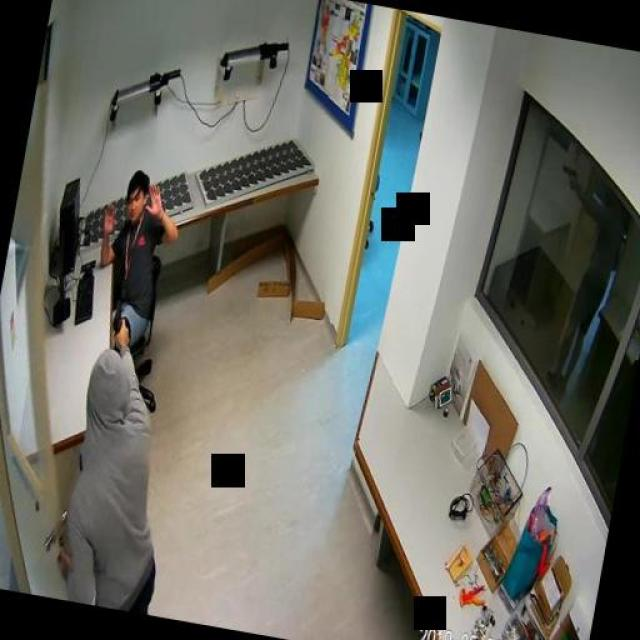gun: (107, 295, 135, 345)
